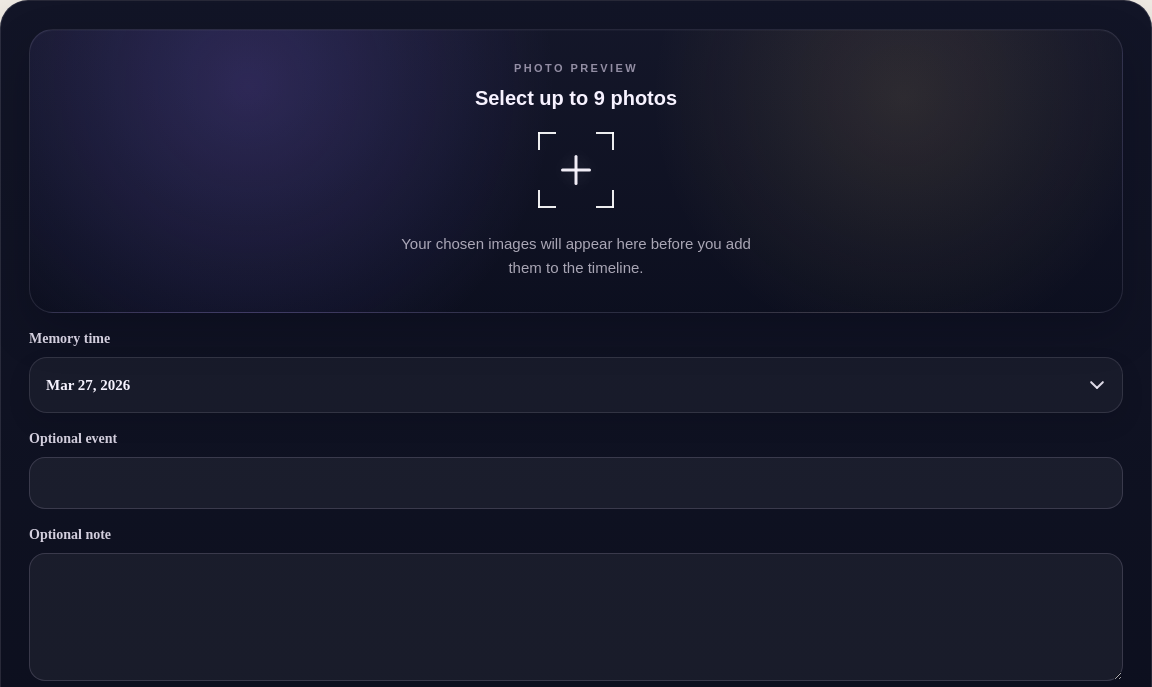
Test: MilkyWayUploadPanel › uses the custom calendar popover for memory time selection
The width and height of the screenshot is (1152, 687).
What coordinates should you click on to do the following:
click the button "Mar 27, 2026"
I would click on:
 (88, 385)
Its box is left=29, top=357, right=1123, bottom=413.
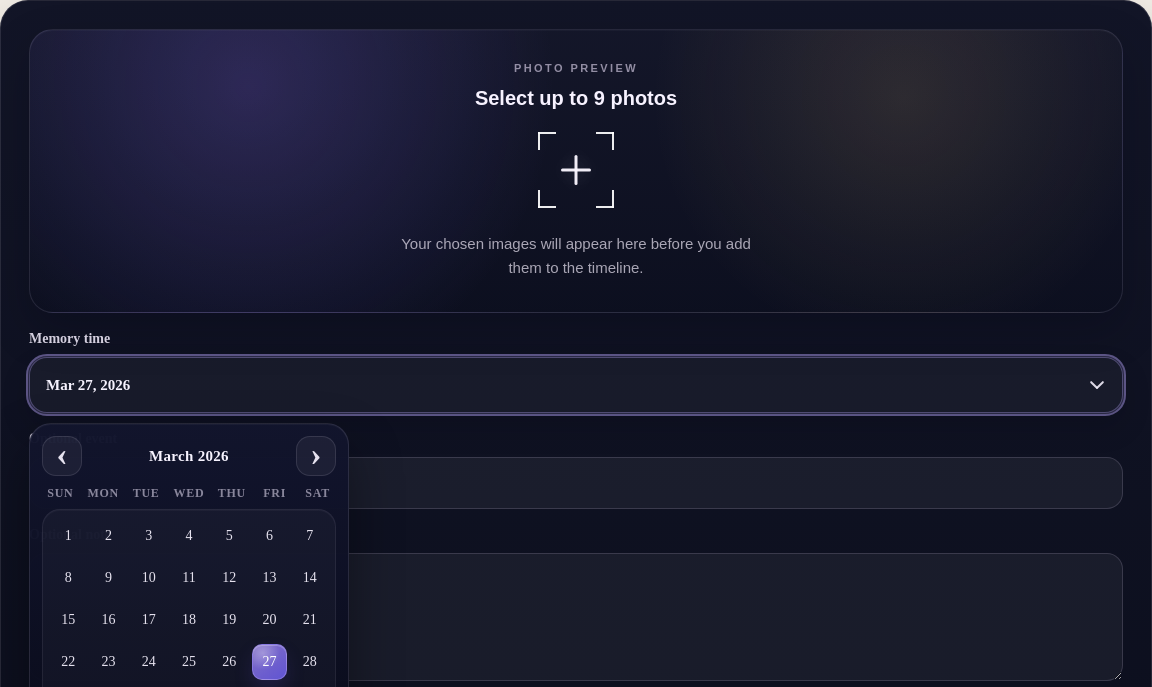
Now the button named "previous month" is shown, box left=42, top=436, right=82, bottom=476
Now the button named "next month" is shown
What coordinates should you click on to do the following:
click the button named "next month"
I would click on:
 (316, 456)
Its box is left=296, top=436, right=336, bottom=476.
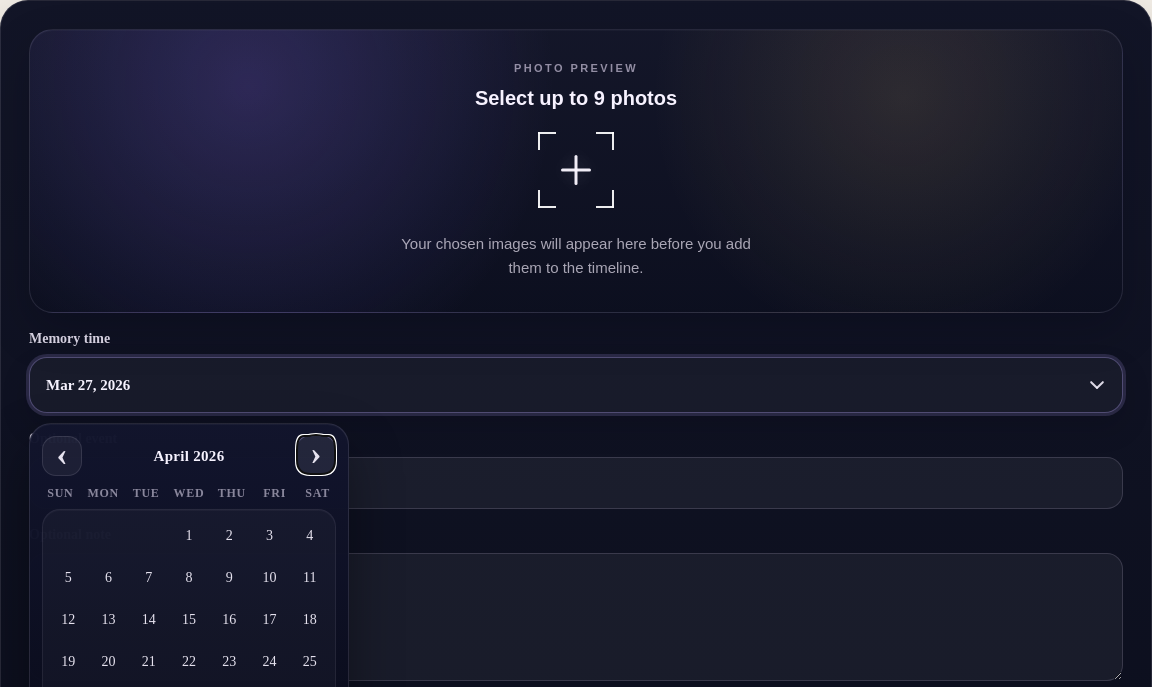
What coordinates should you click on to do the following:
click the button named "april 4, 2026"
I would click on:
 (310, 536)
Its box is left=293, top=518, right=327, bottom=554.
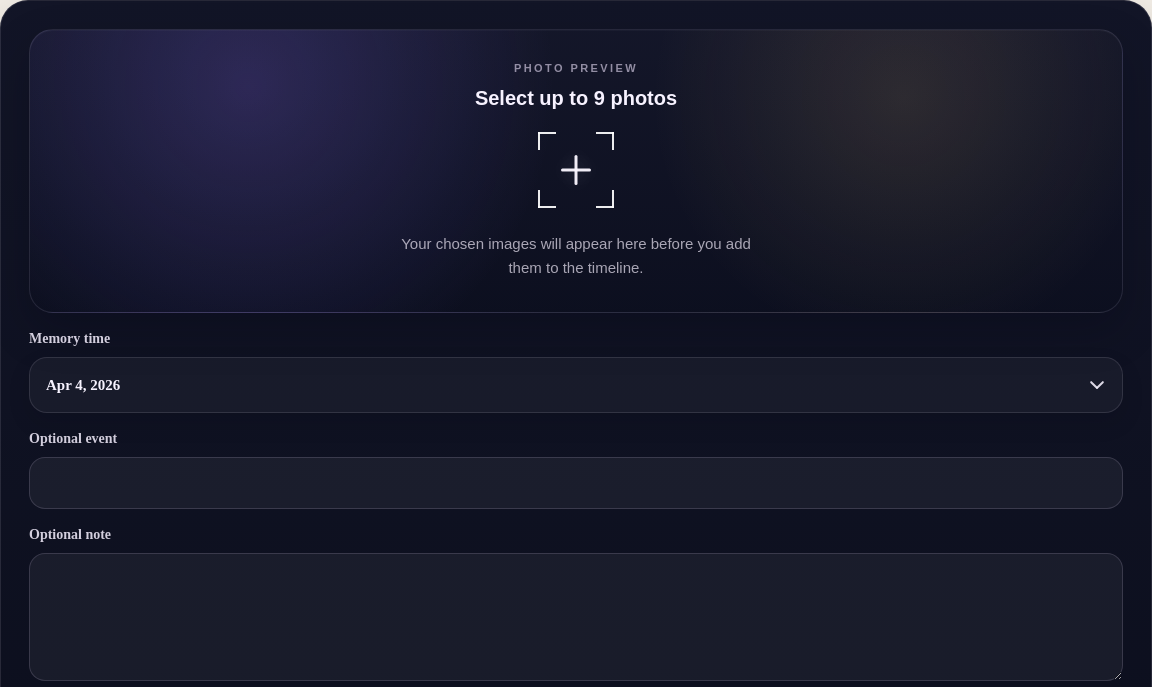
Now the button "Apr 4, 2026" is shown, box left=29, top=357, right=1123, bottom=413
